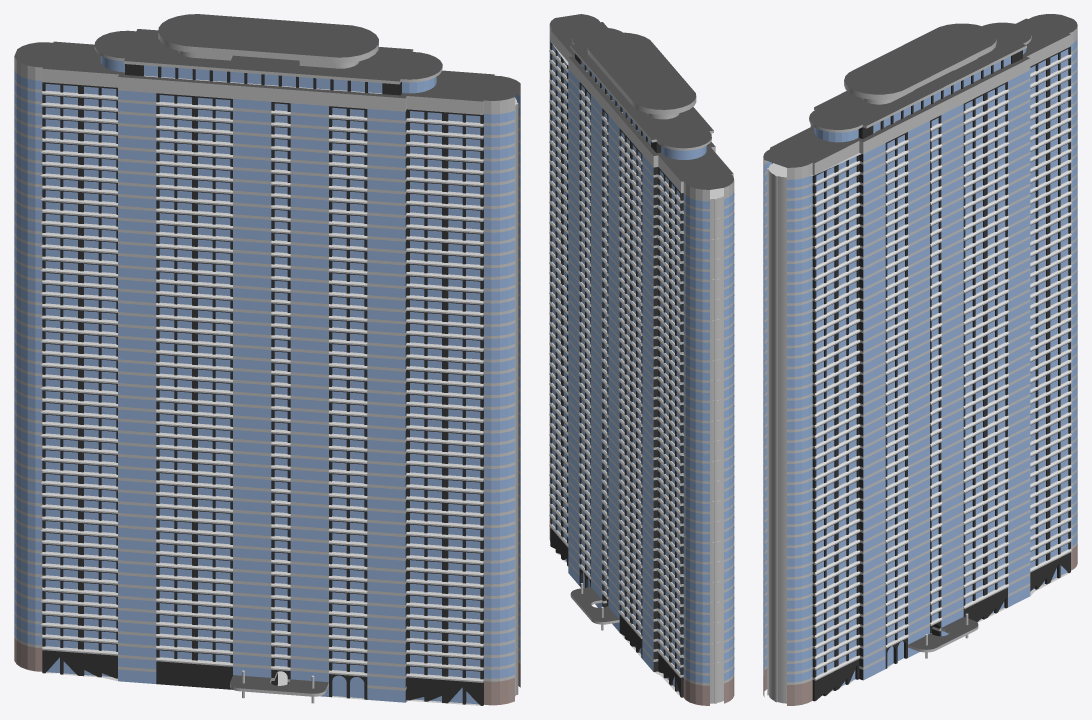
Rendered from Skyscraper9.fbx.
3 views of the same model, side by side, from view 1: azimuth 30°, elevation 25°; view 2: azimuth 150°, elevation 25°; view 3: azimuth 270°, elevation 25° (orthographic). The views are drawn at different scales.
Parts seen in each view (by area): view 1: Mesh2984 Model; view 2: Mesh2984 Model; view 3: Mesh2984 Model.
Part boxes in pixels (x1,y1,x2,y2): Mesh2984 Model: (14,14,520,705); Mesh2984 Model: (549,14,734,705); Mesh2984 Model: (763,14,1077,705).
Size of the model in its own units: 1101 by 1902 by 951.
